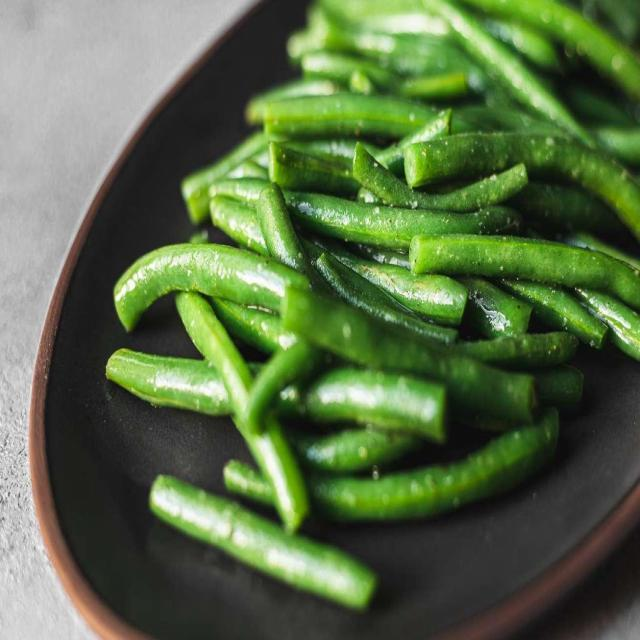Beans: (100, 0, 639, 606)
